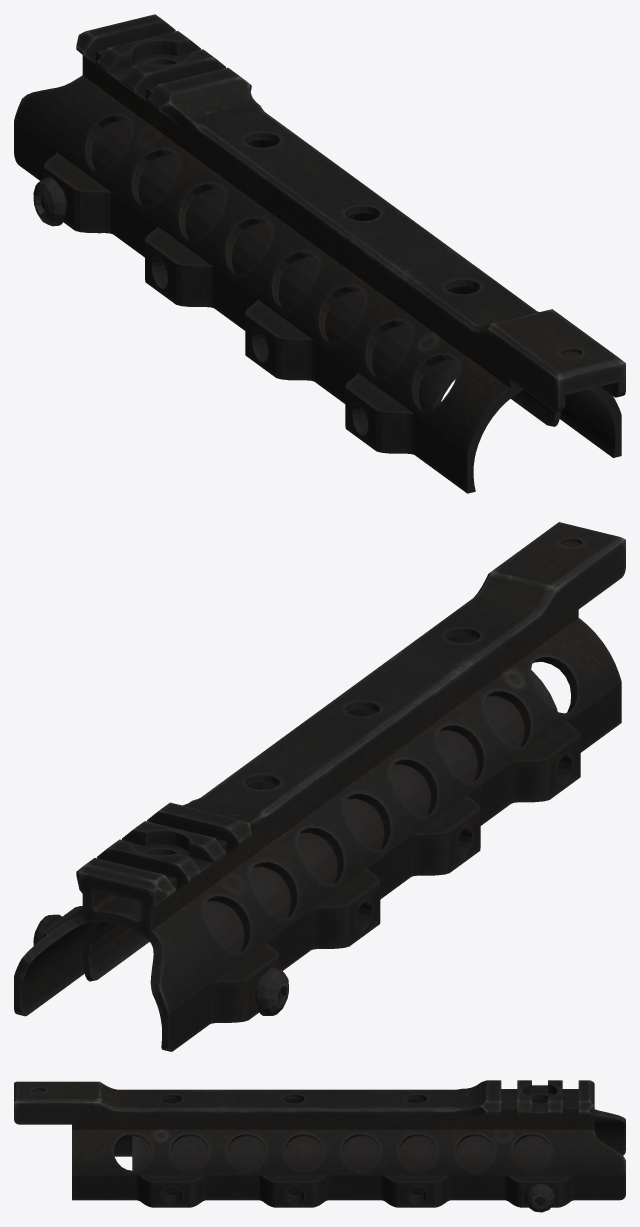
3 renders of one model, top to bottom at view 1: azimuth 30°, elevation 25°; view 2: azimuth 150°, elevation 25°; view 3: azimuth 270°, elevation 25°, orthographic. The views are drawn at different scales.
Parts seen in each view (by area): view 1: TW_637f57d2f5ef8c33840d36c4_PZ_Import; view 2: TW_637f57d2f5ef8c33840d36c4_PZ_Import; view 3: TW_637f57d2f5ef8c33840d36c4_PZ_Import.
Boxes of the visible parts, left/top/right/bottom form: TW_637f57d2f5ef8c33840d36c4_PZ_Import: left=14, top=14, right=625, bottom=493; TW_637f57d2f5ef8c33840d36c4_PZ_Import: left=14, top=522, right=625, bottom=1051; TW_637f57d2f5ef8c33840d36c4_PZ_Import: left=14, top=1080, right=625, bottom=1212.
Bounding box in the file's own units: 0.0323 × 0.1156 × 0.0188.
1 material, 1 textured.
